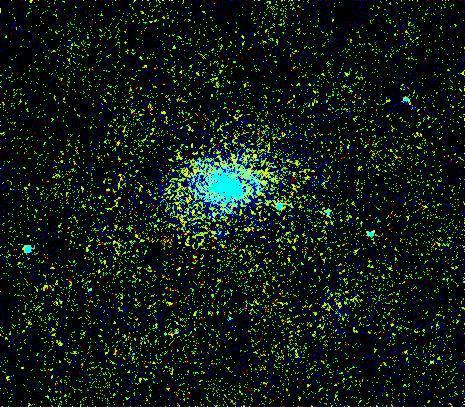star: (42, 324, 72, 354)
